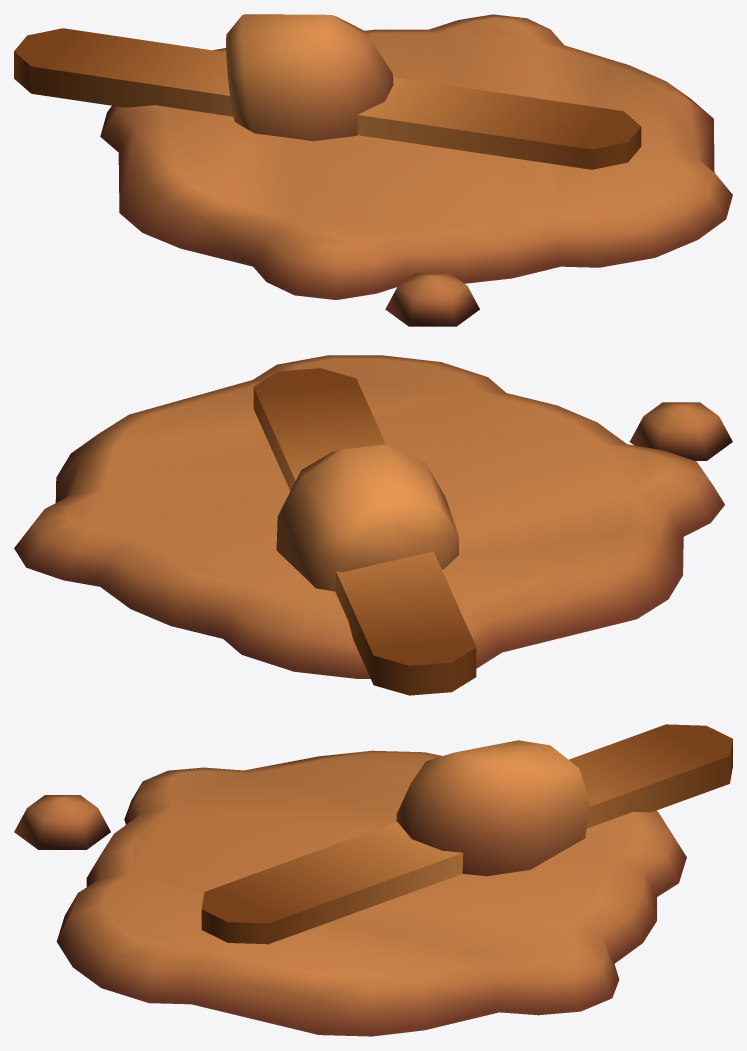
File: m_SpilledPopsicle03.fbx
3 renders of one model, top to bottom at view 1: azimuth 30°, elevation 25°; view 2: azimuth 150°, elevation 25°; view 3: azimuth 270°, elevation 25°, orthographic. The views are drawn at different scales.
Parts seen in each view (by area): view 1: m_SpilledPopsicle03; view 2: m_SpilledPopsicle03; view 3: m_SpilledPopsicle03.
Boxes of the visible parts, x1,y1,x2,y2 form: m_SpilledPopsicle03: (14,14,732,326); m_SpilledPopsicle03: (14,355,732,695); m_SpilledPopsicle03: (14,724,732,1036).
Bounding box in the file's own units: 12.21 × 2.52 × 13.54.
